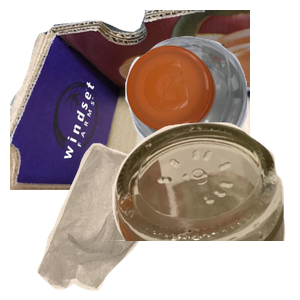cardboard: (10, 10, 250, 190)
glass: (89, 120, 300, 300)
plastic: (123, 33, 300, 181)
trash: (35, 140, 203, 300)
